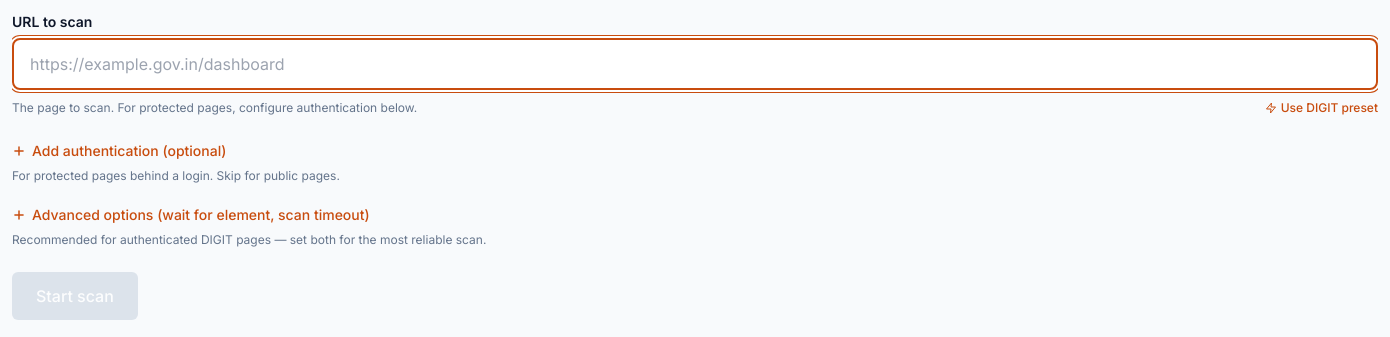
<ScanForm /> › disables submit until a valid URL is entered
The image size is (1390, 337).
Expected: the button "Start scan" is disabled, [12,272,138,320]
Type "not-a-url" into the field labelled "URL to scan". click: (695, 64)
box: [12,38,1378,90]
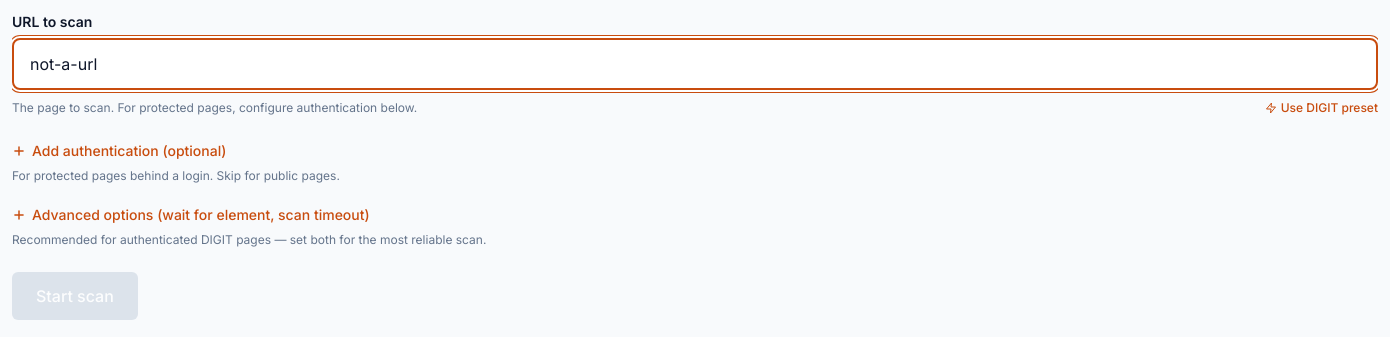
Expected: the button "Start scan" is disabled, [12,272,138,320]
Replace the text in the field labelled "URL to scan" with "https://example.gov.in". click: (695, 64)
box: [12,38,1378,90]
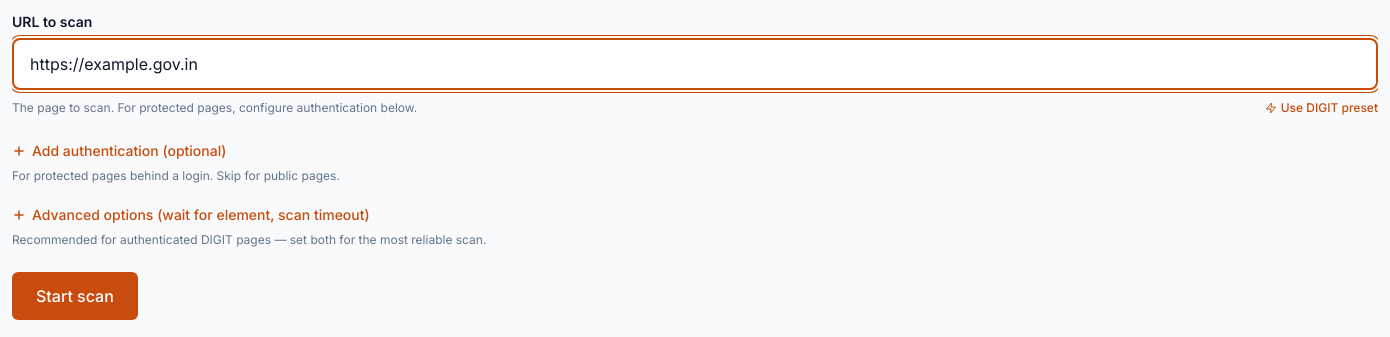
Now the button "Start scan" is enabled, box [12,272,138,320]
